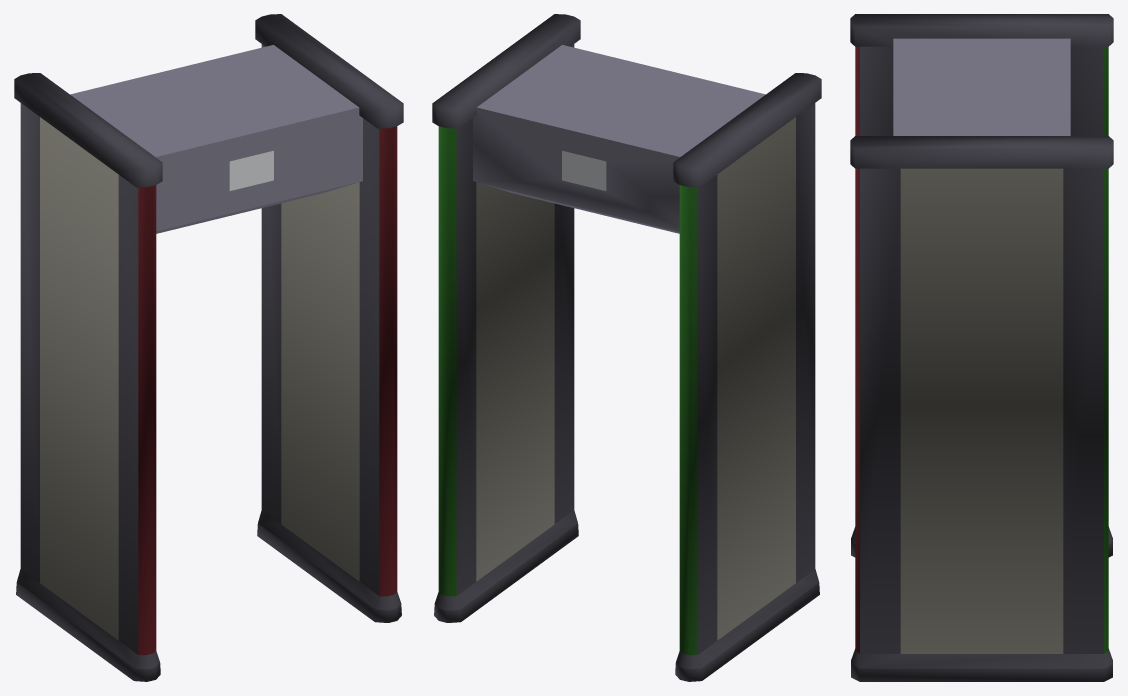
Rendered from MetalDetector_Gate.fbx.
3 renders of one model, left to right at view 1: azimuth 30°, elevation 25°; view 2: azimuth 150°, elevation 25°; view 3: azimuth 270°, elevation 25°, orthographic. The views are drawn at different scales.
Visible parts, largest first — view 1: MetalDetector_Gate; view 2: MetalDetector_Gate; view 3: MetalDetector_Gate.
Boxes of the visible parts, left/top/right/bottom form: MetalDetector_Gate: left=14, top=14, right=403, bottom=681; MetalDetector_Gate: left=432, top=14, right=821, bottom=681; MetalDetector_Gate: left=850, top=14, right=1113, bottom=681.
Size of the model in its own units: 1.45 by 2.65 by 1.19.
